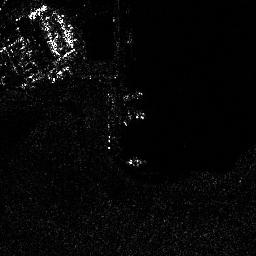ship: (108, 110, 144, 125), (115, 88, 143, 104)
